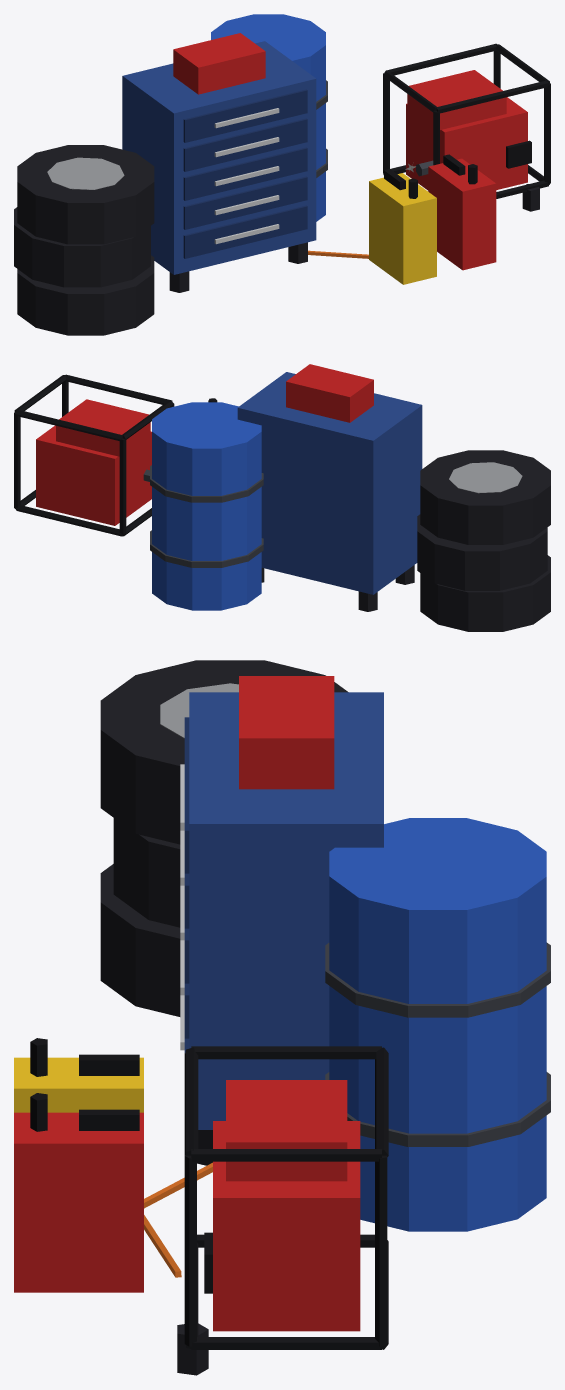
File: pit_clutter.glb
3 renders of one model, top to bottom at view 1: azimuth 30°, elevation 25°; view 2: azimuth 150°, elevation 25°; view 3: azimuth 270°, elevation 25°, orthographic. The views are drawn at different scales.
Visible parts, largest first — view 1: Pile, Generator; view 2: Pile, Generator; view 3: Pile, Generator, Lead.
Boxes of the visible parts, box(x1,y1,x2,y2) form: Pile: box(14, 14, 496, 335); Generator: box(383, 43, 550, 211); Pile: box(150, 364, 550, 631); Generator: box(14, 374, 174, 536); Pile: box(14, 660, 550, 1292); Generator: box(177, 1046, 388, 1375); Lead: box(144, 1162, 212, 1277).
Bounding box in the file's own units: 2.59 × 1.01 × 1.24.
